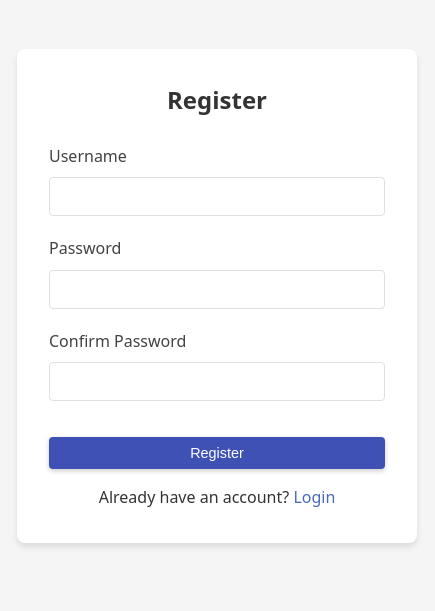
Test: Register Component › validates password length
In the field labelled "Username": (217, 197) [49,177,385,216], type "testuser"
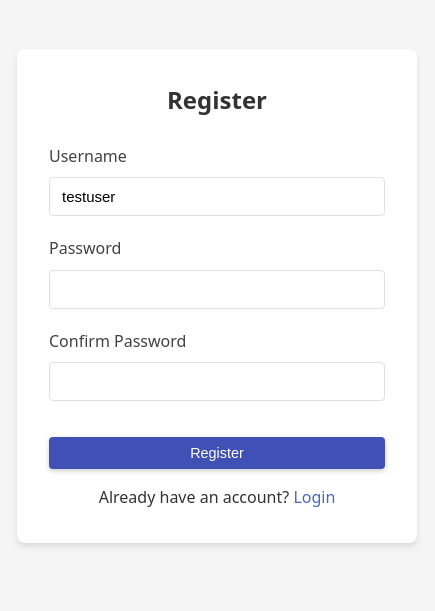
In the password field labelled "Password": (217, 289) [49,270,385,309], type "12345"
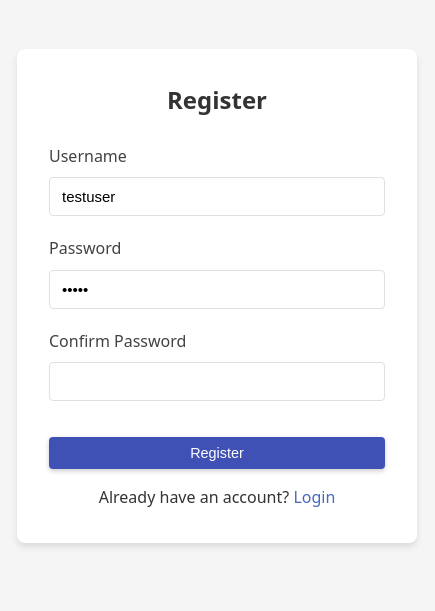
In the password field labelled "Confirm Password": (217, 382) [49,362,385,401], type "12345"
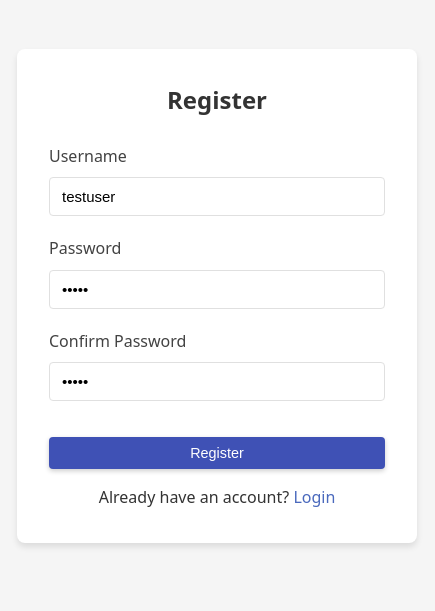
Click the button "Register": click(217, 453) [49,437,385,469]
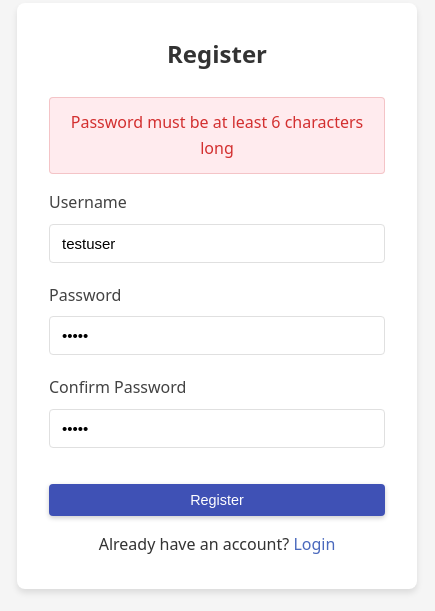
Now the text "Password must be at least 6 characters long" is shown, box [49,97,385,174]
